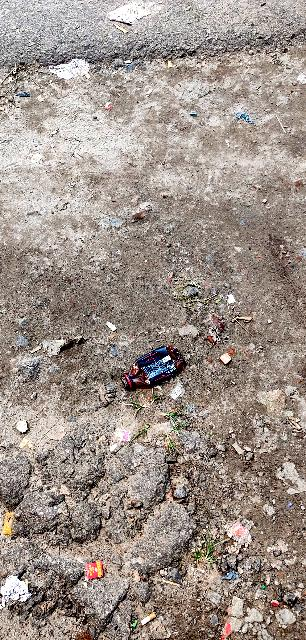bottle: (117, 336, 191, 403)
